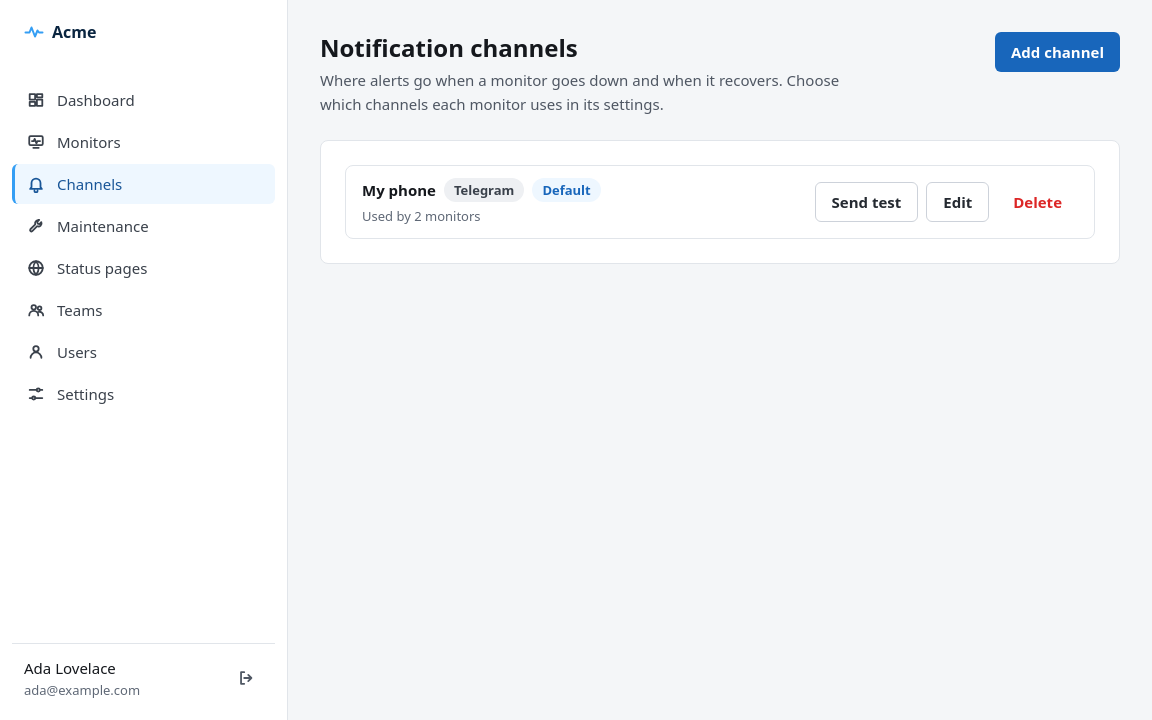
Test: ChannelsPage › deletes a channel after confirmation
The image size is (1152, 720).
Click the button with aria-label "Delete: My phone".
click(1038, 202)  # box [997,182,1078,222]
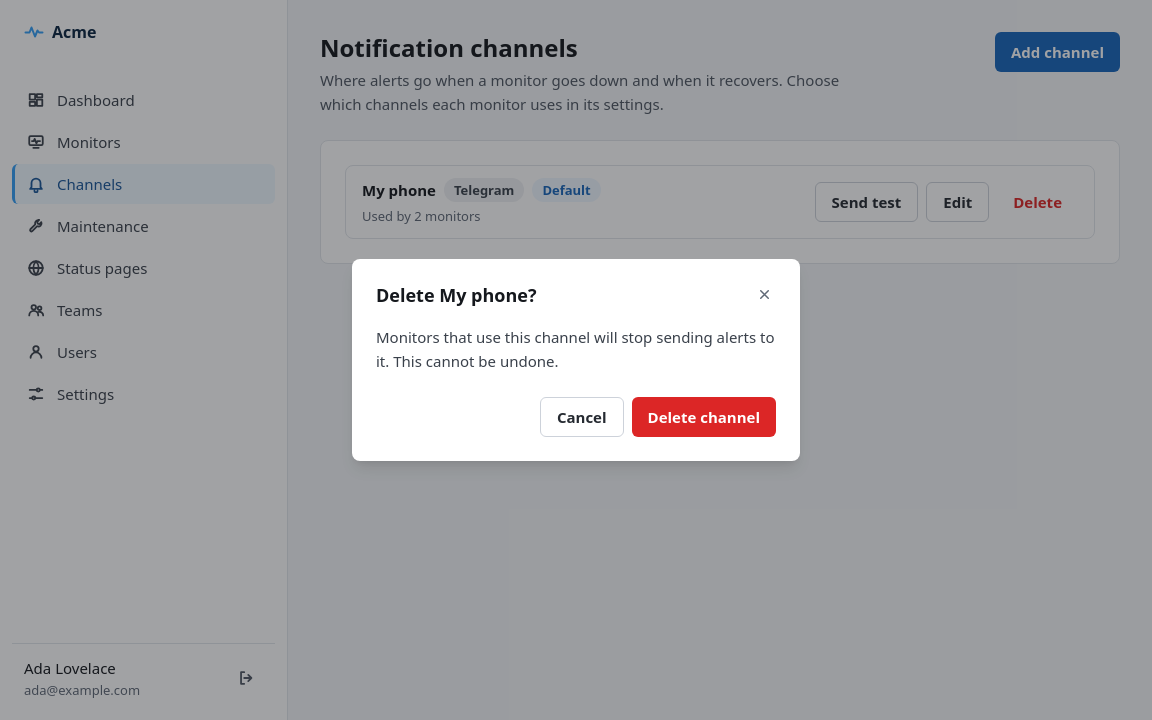
Click the button "Delete channel".
click(704, 417)  # box [632,397,776,437]
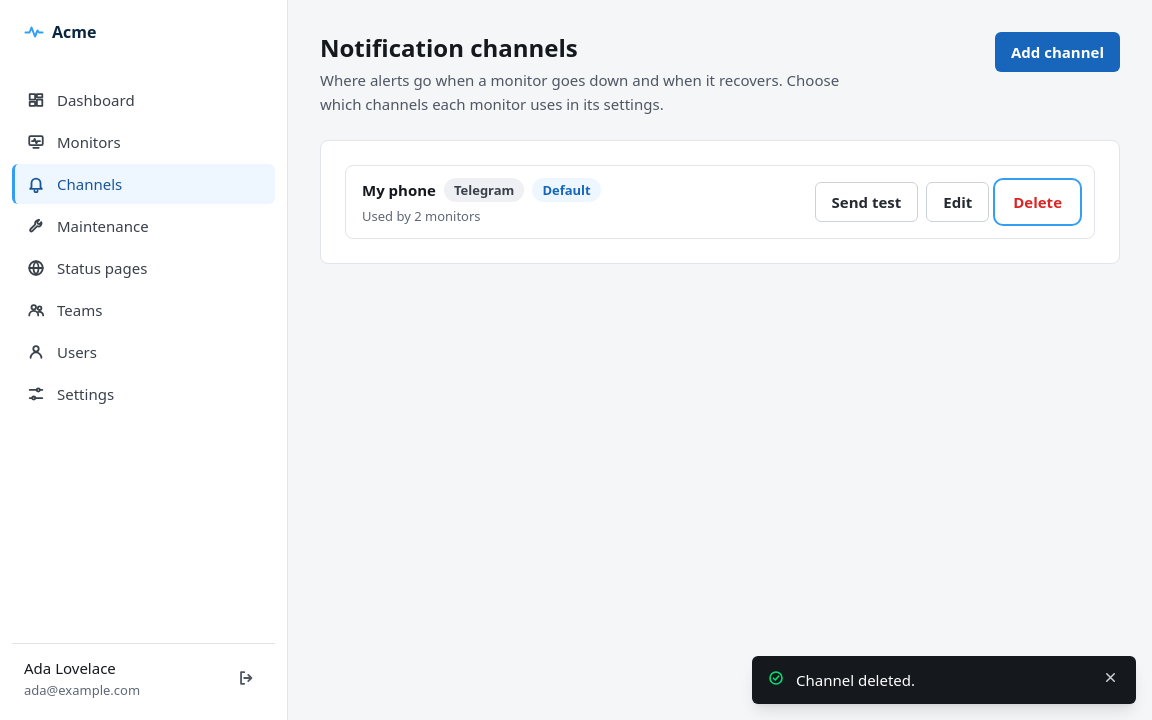
Expected: the text "Channel deleted." is shown, [796,670,915,690]
